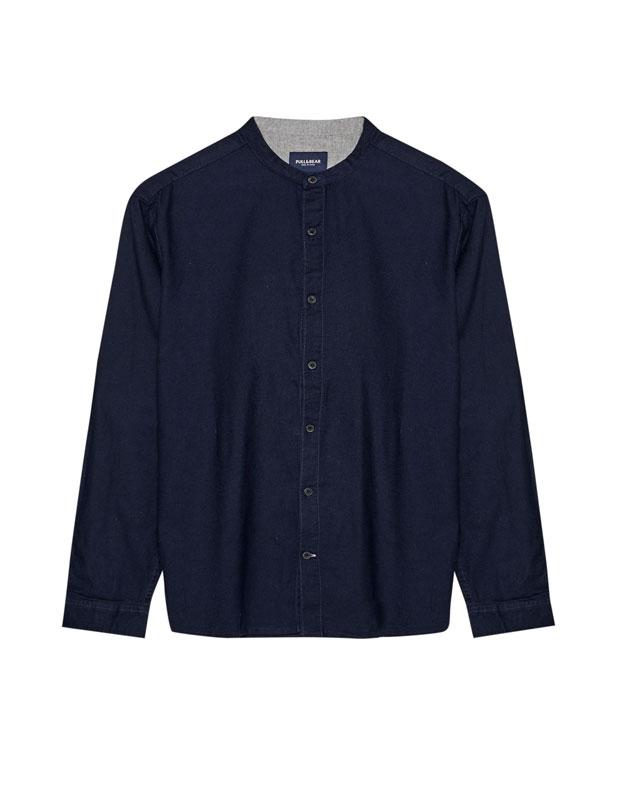teeshirt: (53, 118, 578, 651)
